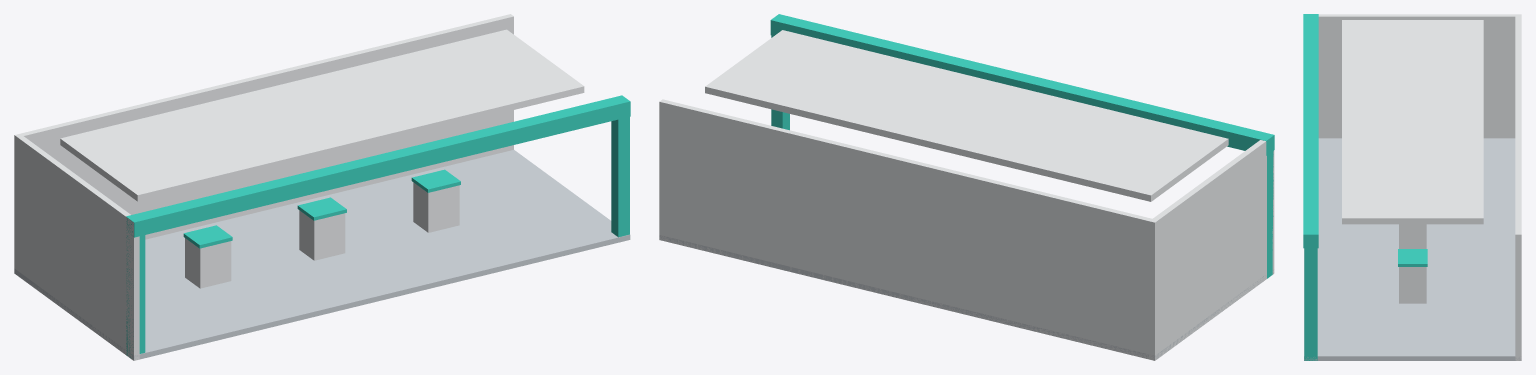
The picture shows the model from 3 angles, left to right: view 1: azimuth 30°, elevation 25°; view 2: azimuth 150°, elevation 25°; view 3: azimuth 270°, elevation 25°; orthographic projection. The views are drawn at different scales.
Parts seen in each view (by area): view 1: Exhibition Booth Concept; view 2: Exhibition Booth Concept; view 3: Exhibition Booth Concept.
Part boxes in pixels (box(x1,y1,x2,y2)): Exhibition Booth Concept: box(14, 14, 630, 360); Exhibition Booth Concept: box(659, 14, 1274, 360); Exhibition Booth Concept: box(1303, 14, 1521, 360).
Bounding box in the file's own units: 12 × 3.34 × 5.02.
